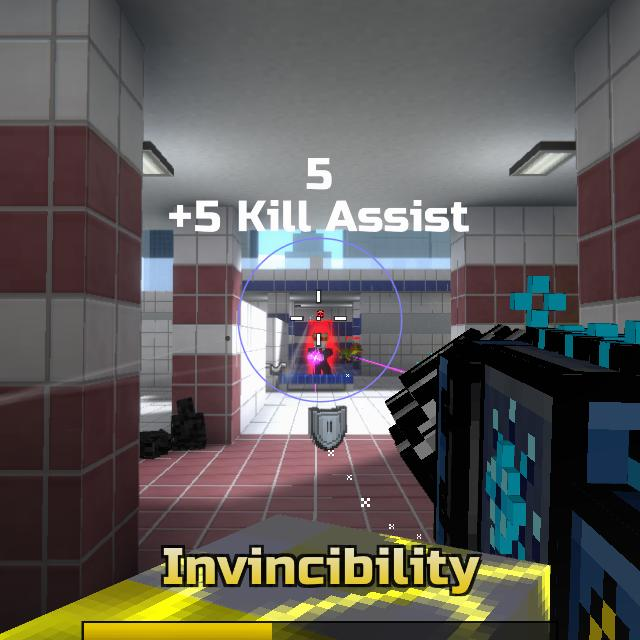Enemy: (307, 333, 333, 375)
